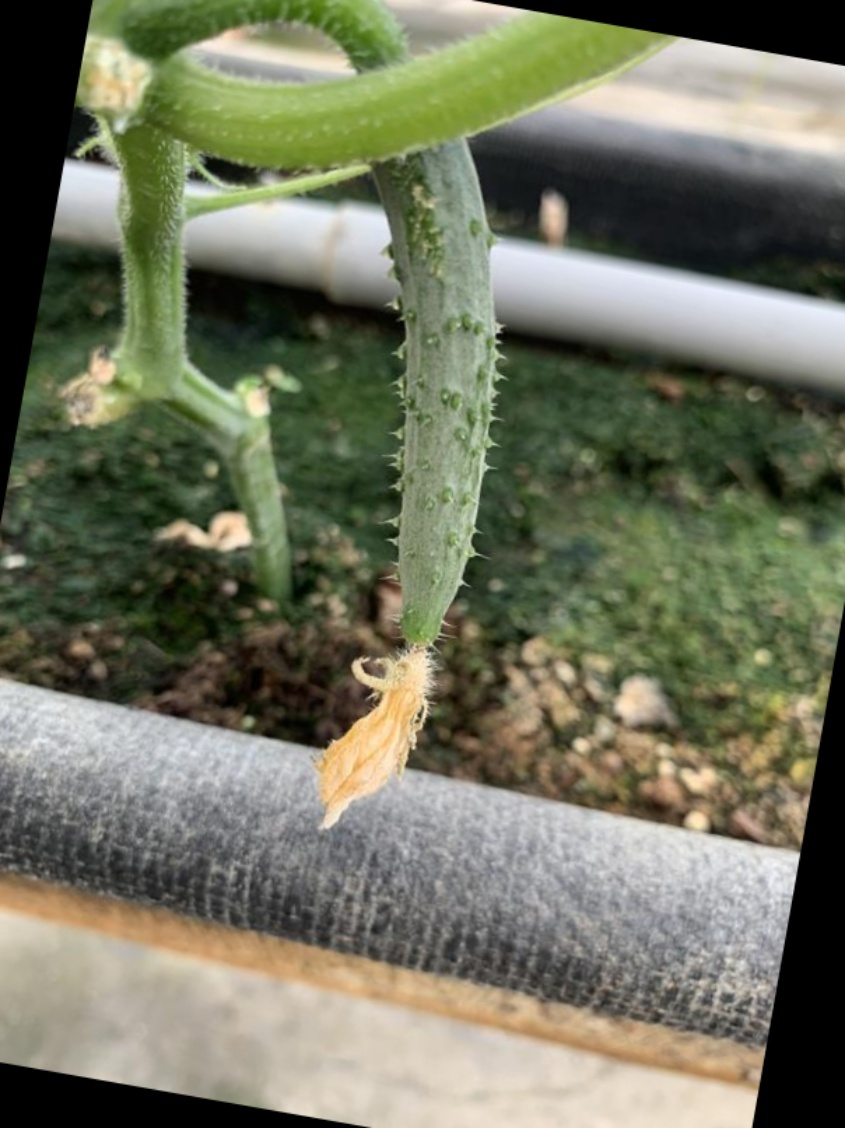bear: (276, 153, 549, 846)
